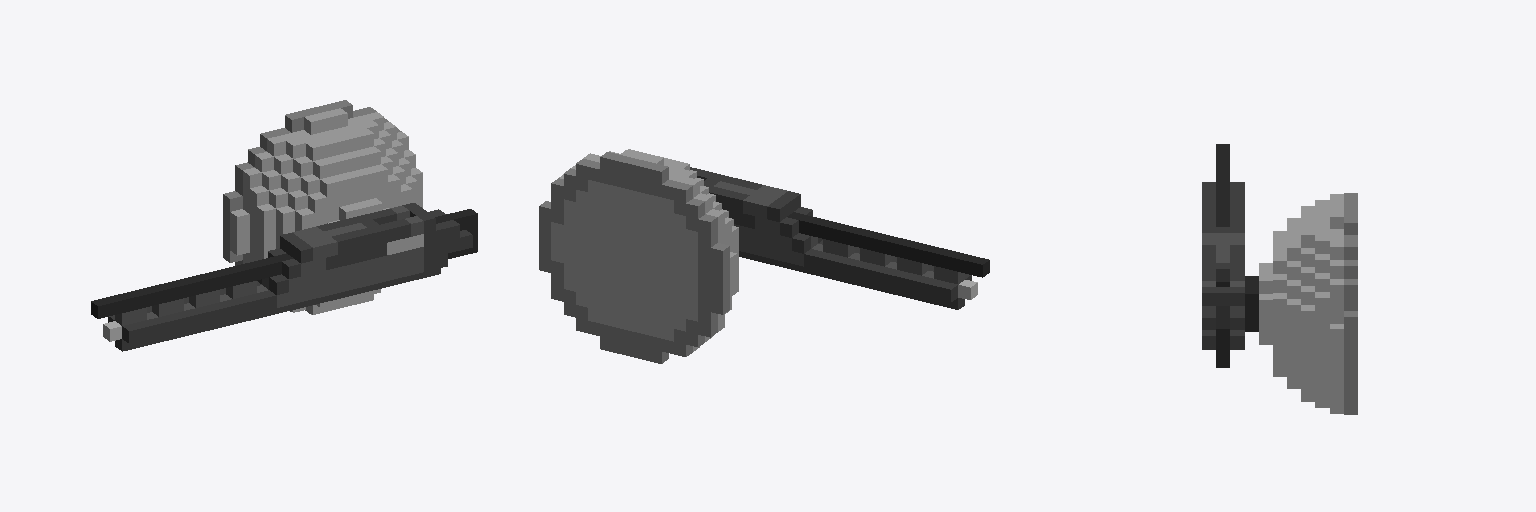
The picture shows the model from 3 angles: view 1: azimuth 30°, elevation 25°; view 2: azimuth 150°, elevation 25°; view 3: azimuth 270°, elevation 25°; orthographic projection.
Bounding box in the file's own units: 31 × 15 × 11.
1 materials, 1 textured.